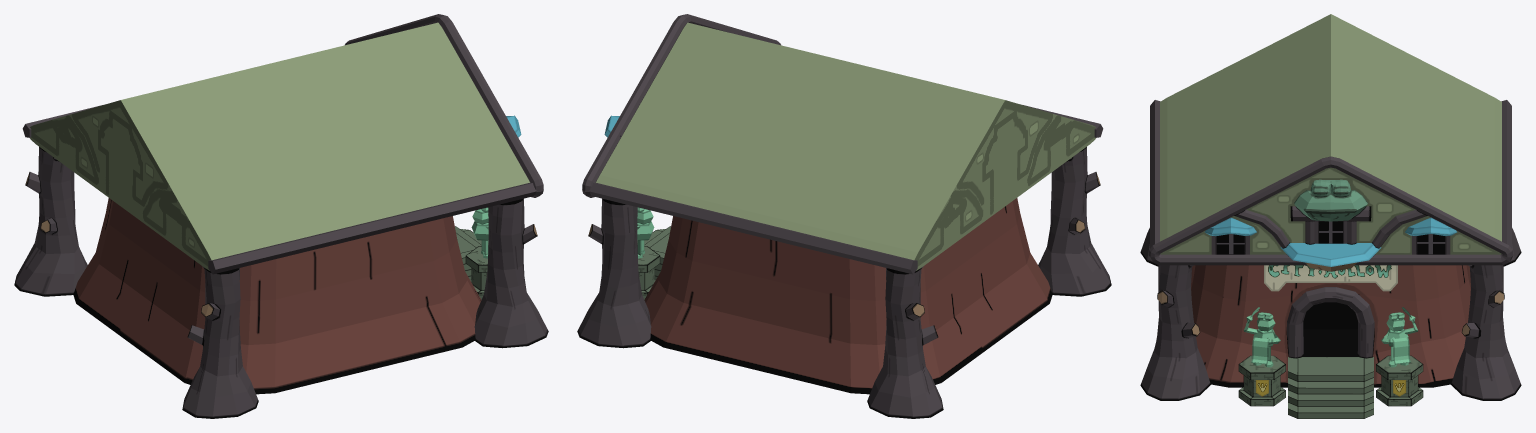
File: hall.glb
The picture shows the model from 3 angles, left to right: view 1: azimuth 30°, elevation 25°; view 2: azimuth 150°, elevation 25°; view 3: azimuth 270°, elevation 25°; orthographic projection. The views are drawn at different scales.
Visible parts, largest first — view 1: building; view 2: building; view 3: building.
Part boxes in pixels (bbox=[...]): building: bbox=[14, 14, 548, 418]; building: bbox=[577, 14, 1111, 418]; building: bbox=[1140, 14, 1521, 418].
Bounding box in the file's own units: 14.9 × 9.02 × 13.1.
1 material, 1 textured.
